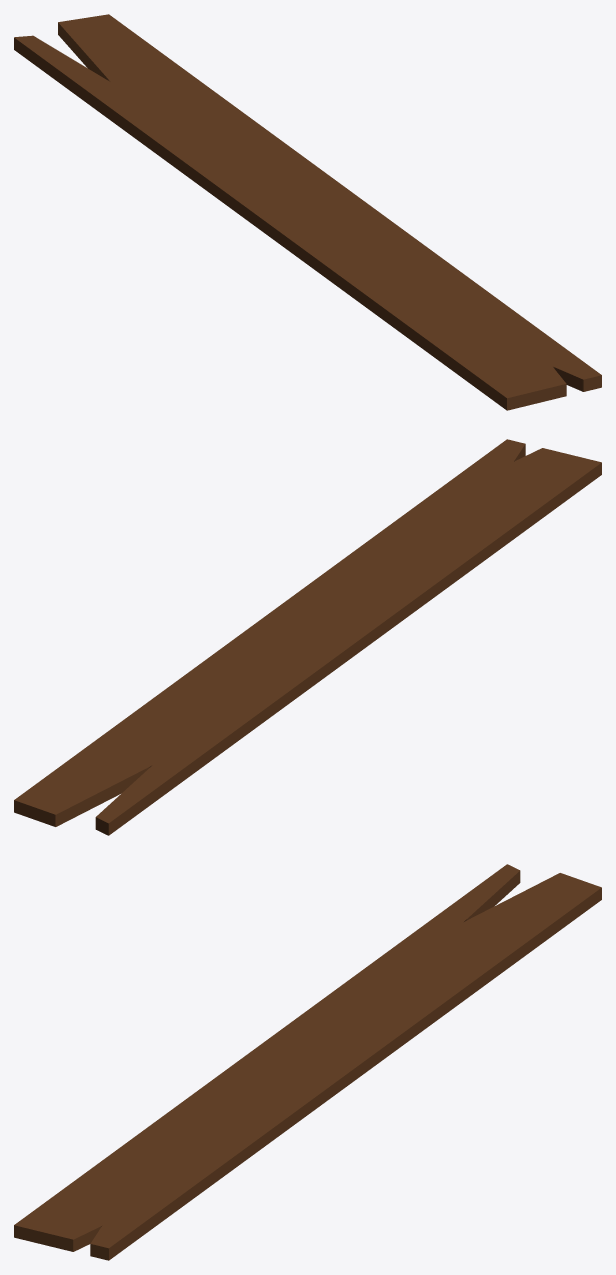
The model's file is woodPlank.fbx.
3 views of the same model, one above another, from view 1: azimuth 30°, elevation 25°; view 2: azimuth 150°, elevation 25°; view 3: azimuth 330°, elevation 25° (orthographic).
Parts seen in each view (by area): view 1: plank_Wood_; view 2: plank_Wood_; view 3: plank_Wood_.
Part boxes in pixels (left/top/right/bottom): plank_Wood_: left=14, top=14, right=601, bottom=410; plank_Wood_: left=14, top=439, right=601, bottom=835; plank_Wood_: left=14, top=864, right=601, bottom=1260.
Bounding box in the file's own units: 2 × 0.25 × 18.16.
Materials: 1 (1 with a texture image).
